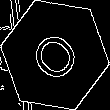O_SE: (23, 22, 87, 88)
